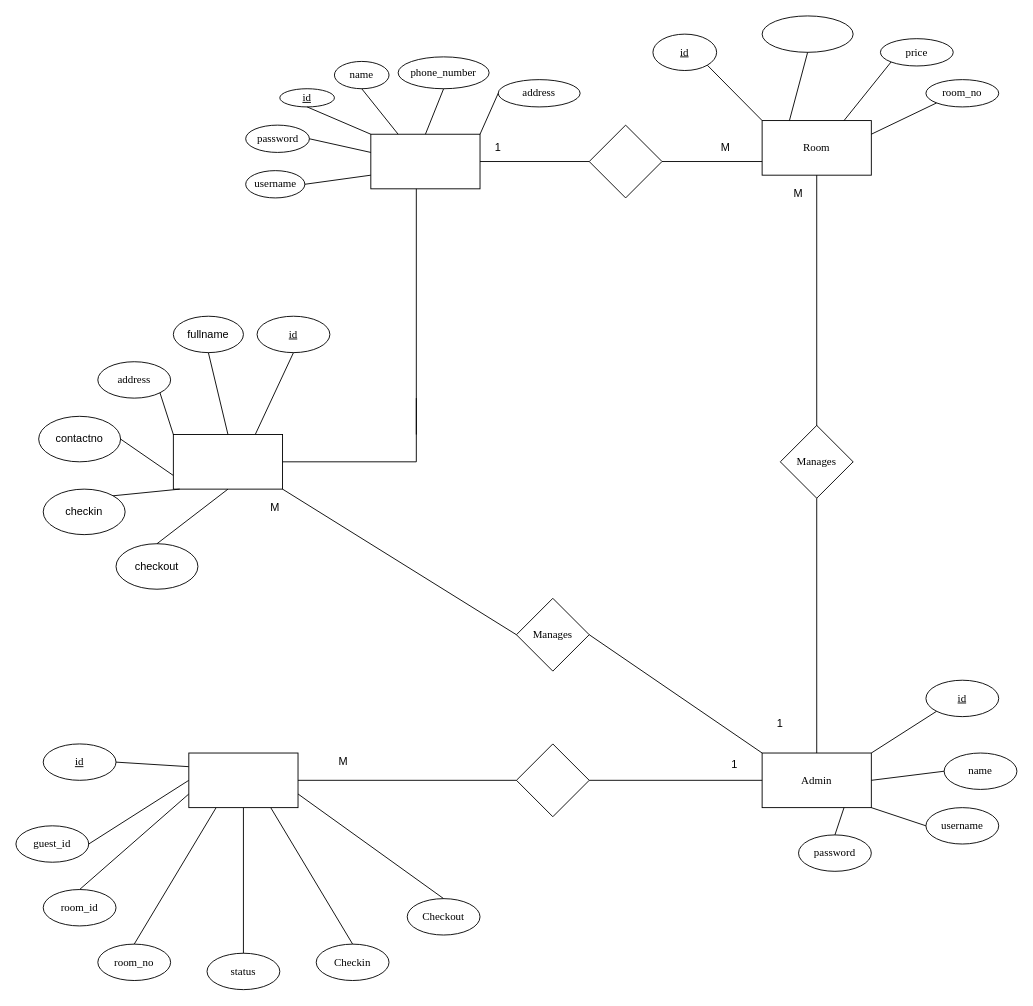
This 1033x1006 diagram has some shape labels left out. The shapes that lost their labels are listed below. From the top down, each one's centre as x and y in pixels, then its label:
the point at 807,33: room_type
the point at 425,161: Users
the point at 625,161: Search & Books
the point at 227,461: Guest
the point at 243,780: Transaction
the point at 552,780: Performs
